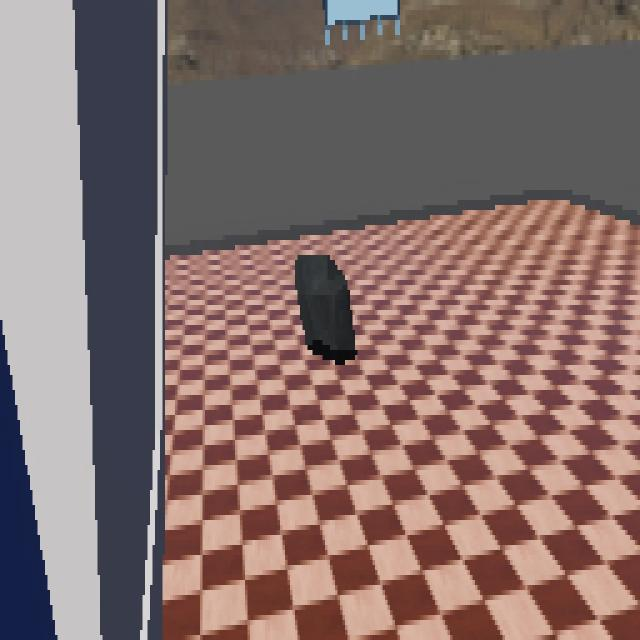rock: (294, 251, 356, 369)
